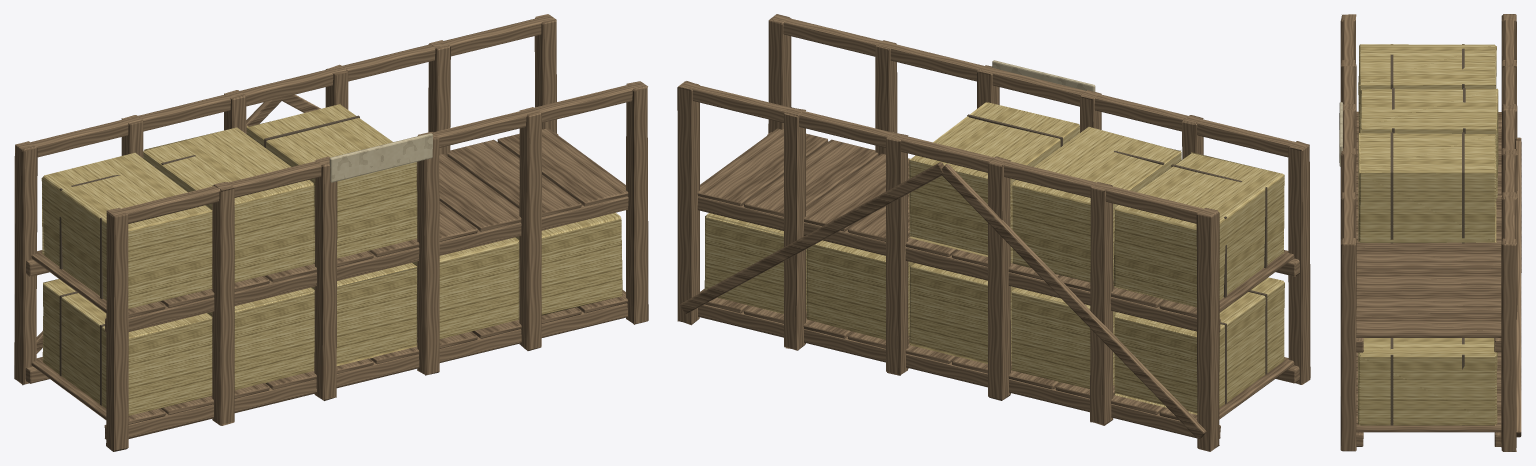
File: bale_rack.glb
The picture shows the model from 3 angles, left to right: view 1: azimuth 30°, elevation 25°; view 2: azimuth 150°, elevation 25°; view 3: azimuth 270°, elevation 25°; orthographic projection. The views are drawn at different scales.
Parts seen in each view (by area): view 1: BaleRack; view 2: BaleRack; view 3: BaleRack.
Part boxes in pixels (x1=…): BaleRack: x1=14, y1=14, x2=648, y2=451; BaleRack: x1=677, y1=14, x2=1310, y2=451; BaleRack: x1=1339, y1=14, x2=1521, y2=451.
Size of the model in its own units: 5.13 by 2.22 by 1.71.
Materials: 4 (3 with a texture image).
